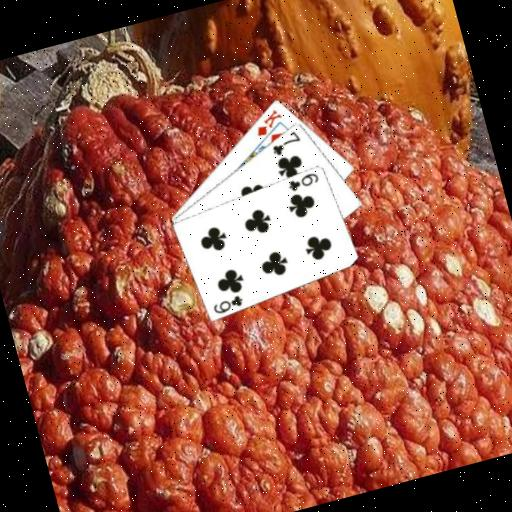6C: (284, 168, 322, 194), (208, 290, 246, 316)
7C: (266, 127, 304, 158)
KD: (248, 104, 286, 138)
